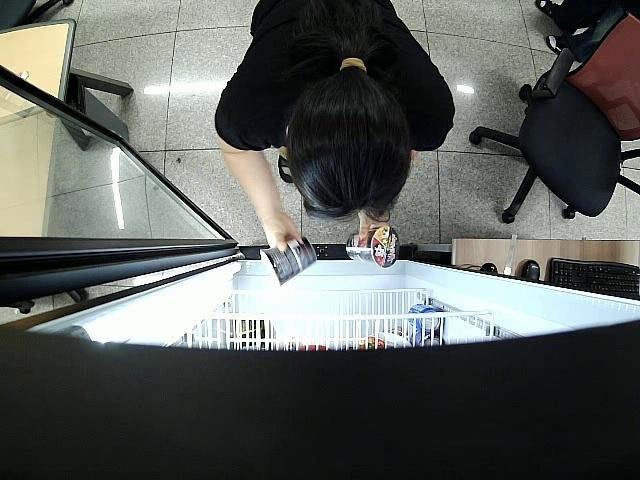08_buldak_S: (258, 240, 318, 283), (348, 224, 398, 268)
